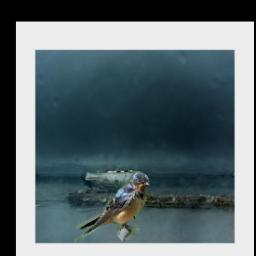Swallow: (75, 172, 151, 243)
